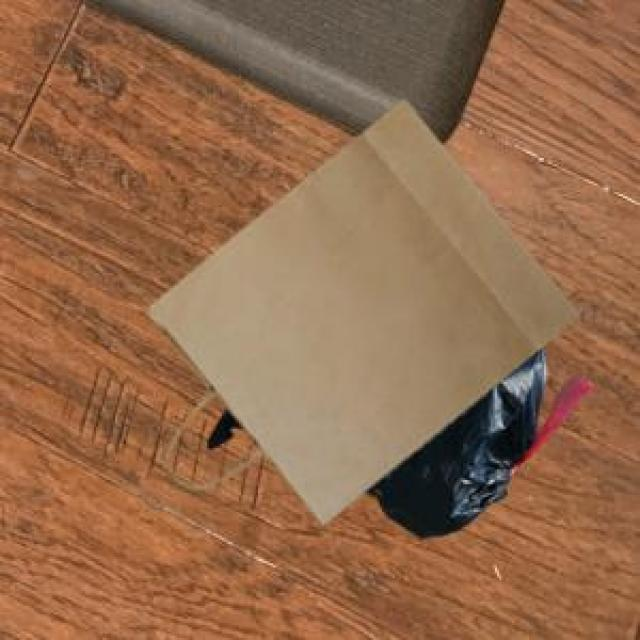miscellaneous trash: (205, 344, 589, 533)
paper: (145, 96, 574, 521)
